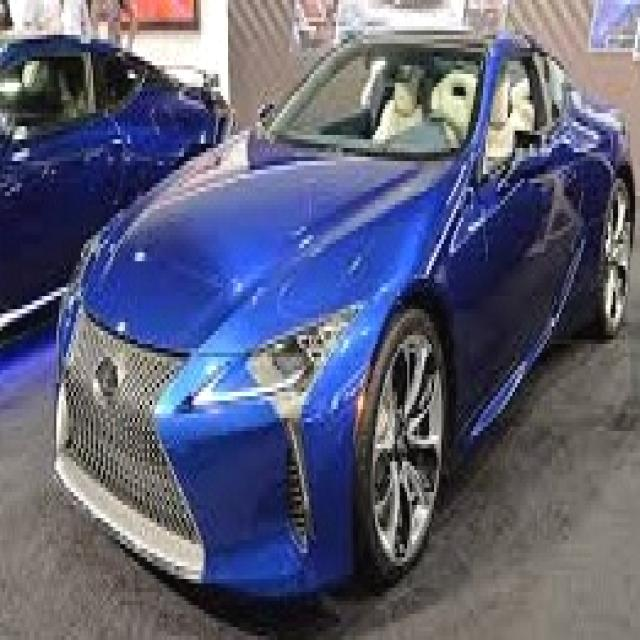blue: (51, 6, 640, 640), (5, 1, 220, 440)
